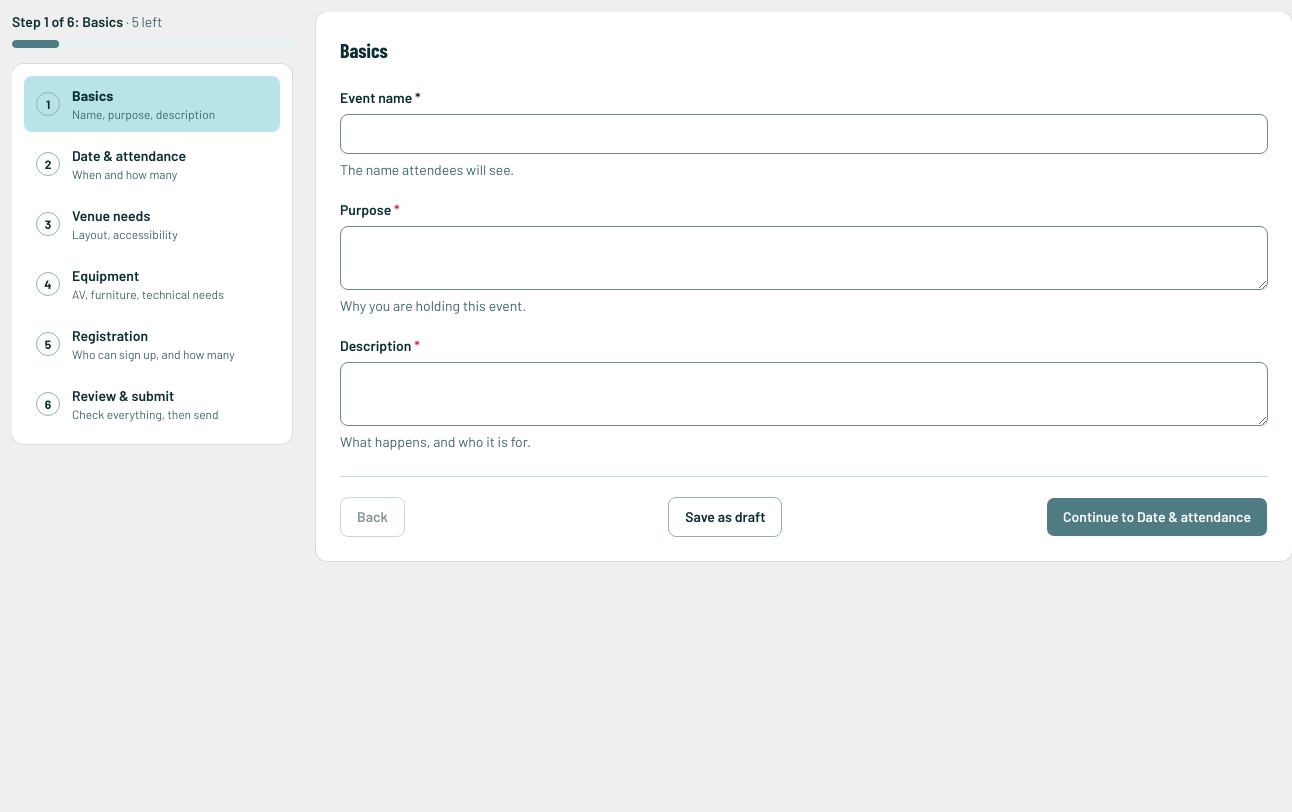
Test: SCRUM-53/AC3 the Draft saved confirmation shows the time › still confirms the save when the server sends no time
Click the button "Save as draft" at (725,517), box [668,497,782,537]
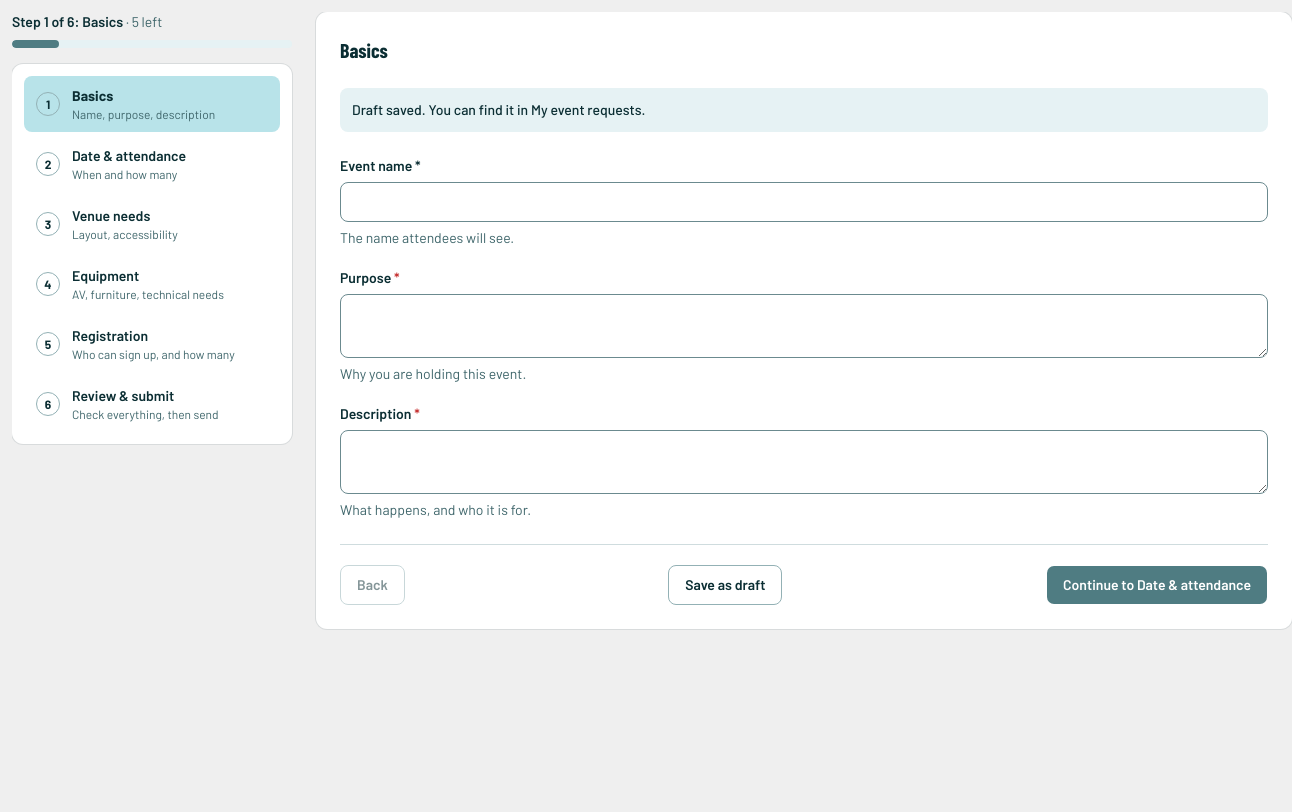
Expected: the message reads "Draft saved. You can find it in My event requests.", [352,101,645,118]
